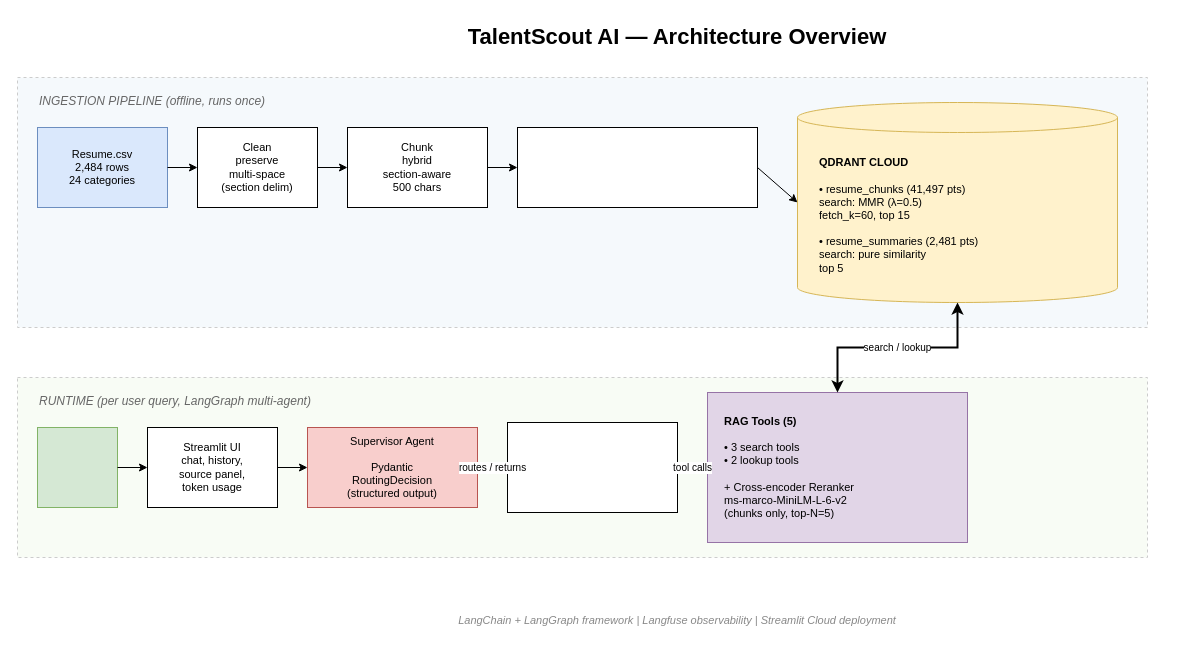
Image size: 1195x654. Some labels were removed from this diagram. The centre of each missing label's shape, as x and y in pixels:
"3 Workers (ReAct) • Retrieval • Comparison • Summarizer" belongs at (x=592, y=467).
"Embed OpenAI text-embedding-3-small 1536-d, cosine" belongs at (x=637, y=167).
"User" belongs at (x=77, y=467).
